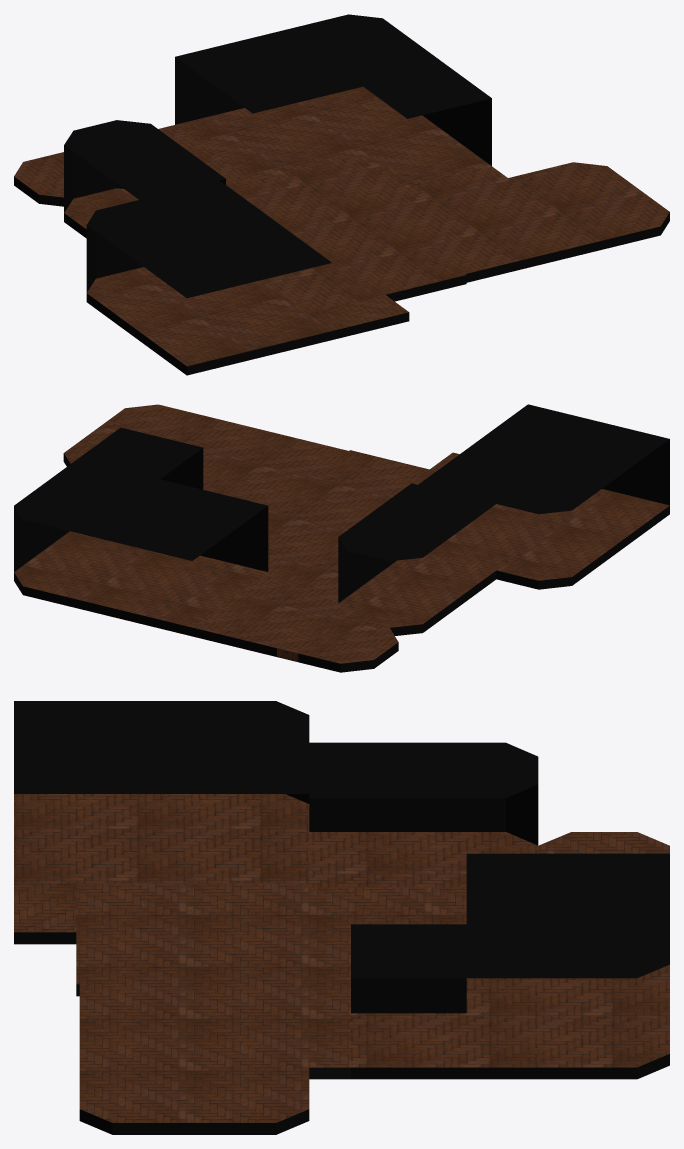
File: lvl2_FloorsAndBlackBoards.fbx
The picture shows the model from 3 angles, top to bottom: view 1: azimuth 30°, elevation 25°; view 2: azimuth 150°, elevation 25°; view 3: azimuth 270°, elevation 25°; orthographic projection. The views are drawn at different scales.
Visible parts, largest first — view 1: Cube.008, Cube.011, Cube.010, Cube.007, Cube.005, Cube.009, Cube.006; view 2: Cube.008, Cube.011, Cube.010, Cube.007, Cube.005, Cube.009, Cube.006; view 3: Cube.008, Cube.011, Cube.007, Cube.010, Cube.005, Cube.009, Cube.006.
Part boxes in pixels (bbox=[...]): Cube.008: bbox=[14, 125, 669, 339]; Cube.011: bbox=[175, 14, 491, 165]; Cube.010: bbox=[86, 180, 331, 298]; Cube.007: bbox=[175, 86, 491, 186]; Cube.005: bbox=[86, 267, 332, 375]; Cube.009: bbox=[64, 120, 225, 212]; Cube.006: bbox=[64, 188, 138, 238]; Cube.008: bbox=[63, 404, 459, 672]; Cube.011: bbox=[14, 427, 268, 571]; Cube.010: bbox=[418, 404, 669, 514]; Cube.007: bbox=[14, 531, 267, 636]; Cube.005: bbox=[428, 489, 669, 589]; Cube.009: bbox=[338, 483, 495, 602]; Cube.006: bbox=[338, 554, 496, 635]; Cube.008: bbox=[14, 832, 669, 1134]; Cube.011: bbox=[351, 853, 669, 1013]; Cube.007: bbox=[351, 964, 669, 1079]; Cube.010: bbox=[14, 701, 309, 803]; Cube.005: bbox=[14, 794, 309, 883]; Cube.009: bbox=[309, 742, 538, 845]; Cube.006: bbox=[309, 832, 538, 887].
Size of the model in its own units: 20 by 24 by 3.4.
Materials: 2 (1 with a texture image).
